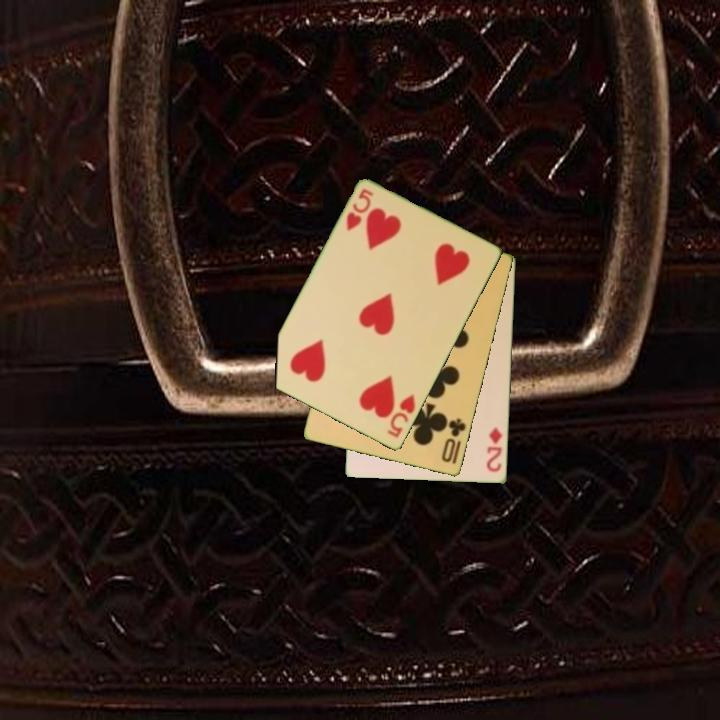10c: (438, 415, 469, 467)
2d: (483, 424, 505, 475)
5h: (384, 391, 419, 441), (343, 185, 376, 234)
